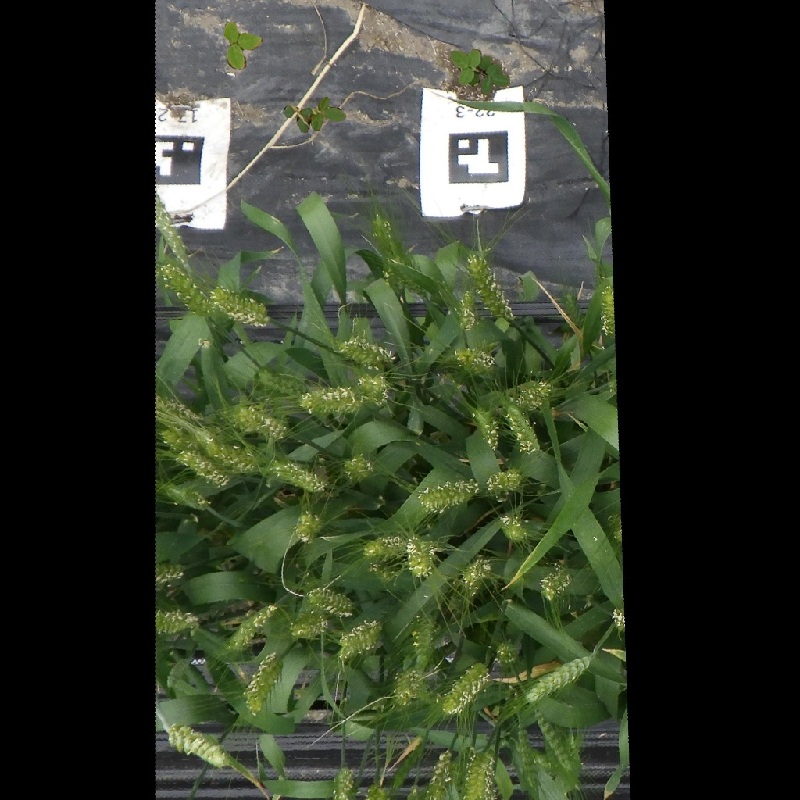spikelet: (523, 653, 593, 704), (466, 251, 513, 322), (373, 219, 419, 291), (440, 661, 491, 717), (166, 722, 229, 767), (209, 284, 271, 329), (227, 601, 277, 652), (227, 400, 289, 441), (537, 715, 580, 774), (243, 652, 283, 713), (155, 202, 192, 265), (175, 447, 228, 489), (158, 268, 206, 314), (416, 477, 479, 512), (336, 618, 384, 662), (269, 459, 329, 494), (299, 383, 360, 417), (155, 394, 208, 433), (502, 404, 542, 455), (336, 336, 397, 369), (460, 748, 498, 799), (305, 583, 356, 617), (359, 530, 409, 563), (514, 723, 538, 790), (404, 532, 438, 579), (210, 442, 259, 474), (389, 665, 427, 706), (538, 560, 573, 602), (511, 377, 554, 411), (471, 405, 502, 452), (459, 555, 495, 593), (453, 344, 497, 375), (156, 606, 201, 636), (428, 748, 456, 796), (354, 372, 392, 407), (414, 616, 441, 665), (483, 467, 523, 500), (287, 612, 328, 641), (291, 509, 324, 545), (453, 286, 478, 333), (340, 452, 375, 484), (497, 511, 530, 544), (491, 636, 523, 670), (597, 273, 613, 337), (331, 766, 357, 800), (156, 559, 186, 586)
weed: (450, 49, 510, 94), (281, 95, 347, 133), (224, 22, 263, 70)
